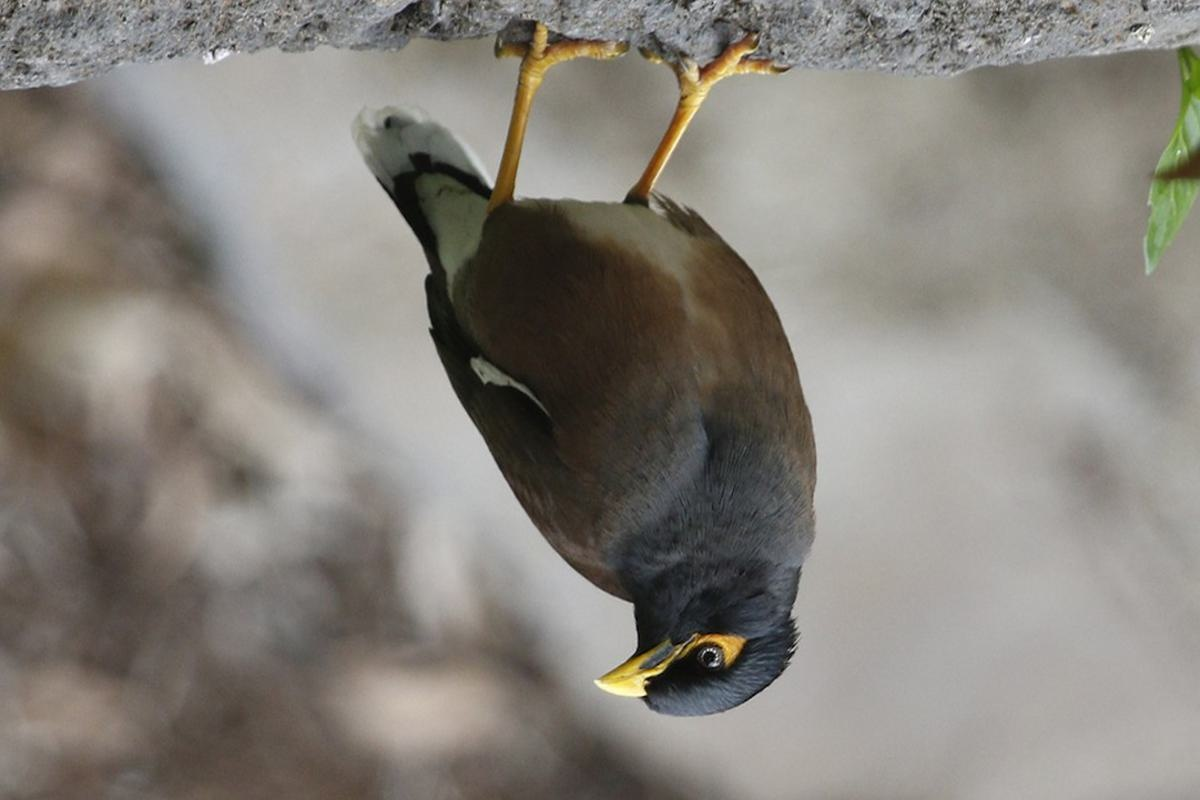myna: (397, 42, 860, 800)
